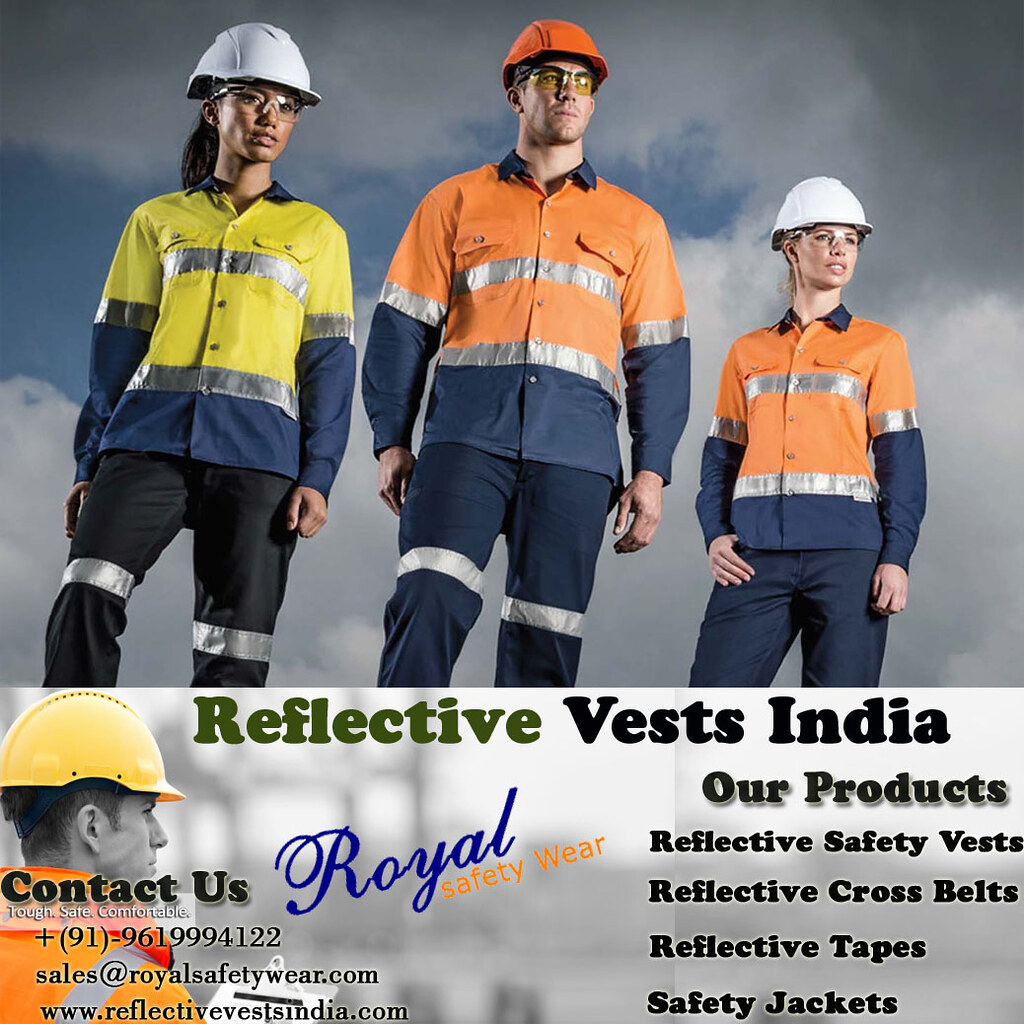Helmet: (183, 16, 327, 193), (483, 12, 617, 166), (751, 169, 881, 316)
Reflective vest: (381, 167, 697, 465), (98, 188, 356, 469), (710, 319, 926, 511)
